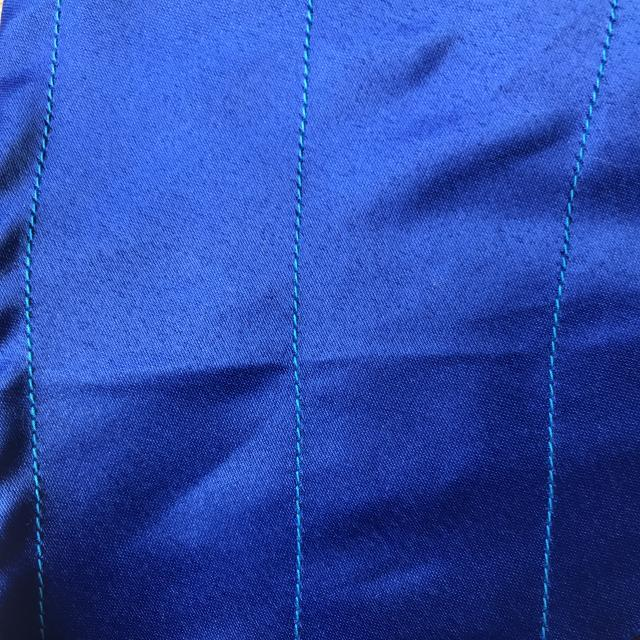good: (274, 190, 328, 393)
